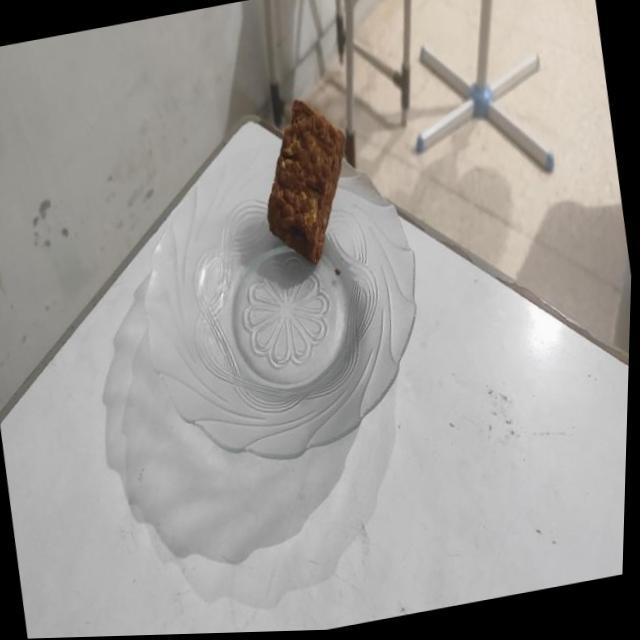tempe_goreng: (268, 102, 345, 264)
